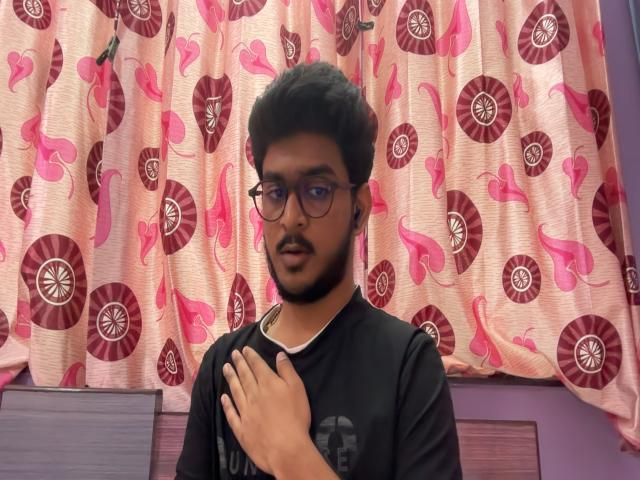Please: (214, 341, 346, 480)
